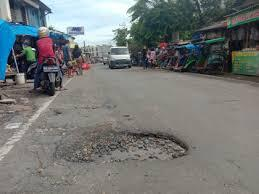Pothole: (25, 99, 208, 169)
